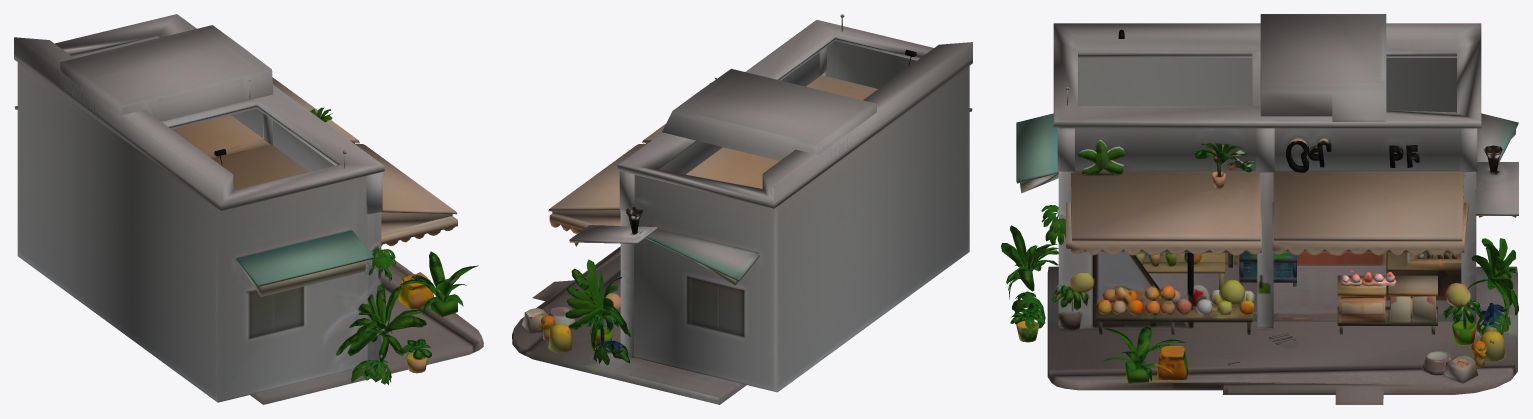
The model's file is environment.neighborhood-market-01.lod0.glb.
3 renders of one model, left to right at view 1: azimuth 30°, elevation 25°; view 2: azimuth 150°, elevation 25°; view 3: azimuth 270°, elevation 25°, orthographic. The views are drawn at different scales.
Visible parts, largest first — view 1: environment.neighborhood-market-01_LOD0_00; view 2: environment.neighborhood-market-01_LOD0_00; view 3: environment.neighborhood-market-01_LOD0_00.
Part boxes in pixels (<box>): environment.neighborhood-market-01_LOD0_00: <box>14,14,483,404</box>; environment.neighborhood-market-01_LOD0_00: <box>512,14,972,404</box>; environment.neighborhood-market-01_LOD0_00: <box>1001,14,1518,404</box>.
Bounding box in the file's own units: 7 × 5.18 × 10.13.
1 material, 1 textured.
